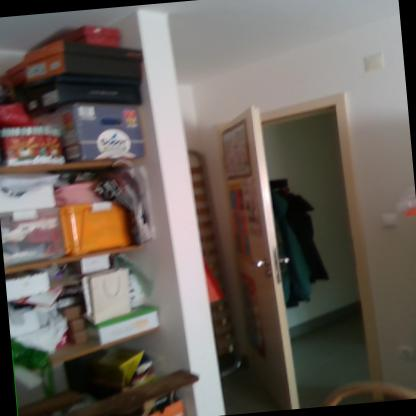semi: (202, 84, 400, 414)
